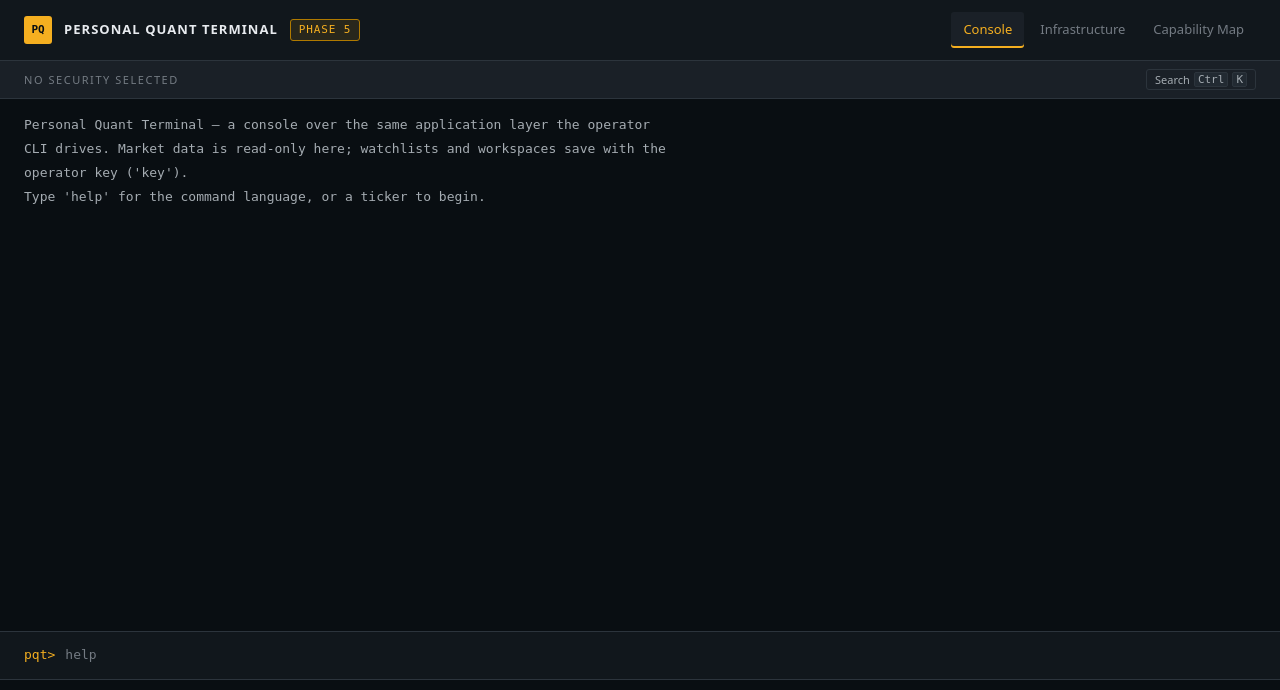
Test: App shell › navigates to the capability map
Click the link "Capability Map": (1199, 29) x1=1153 y1=20 x2=1244 y2=38
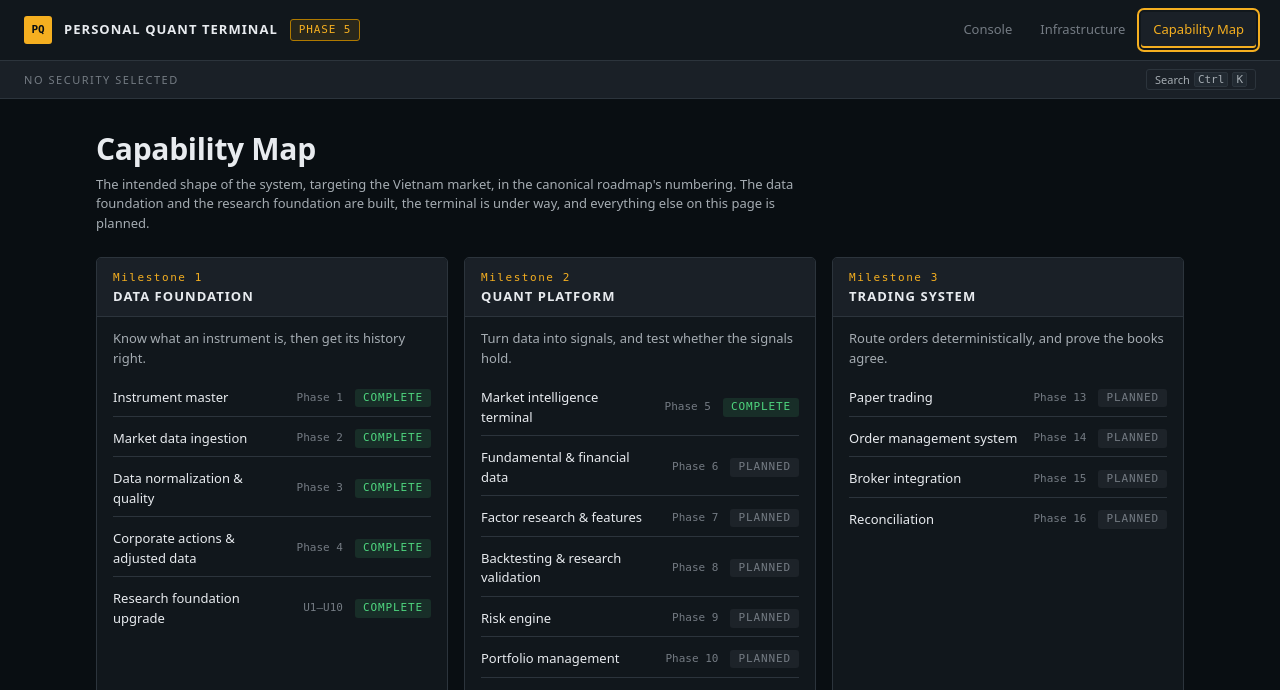
Expected: the heading "Capability Map" is shown, x1=96 y1=128 x2=316 y2=168
